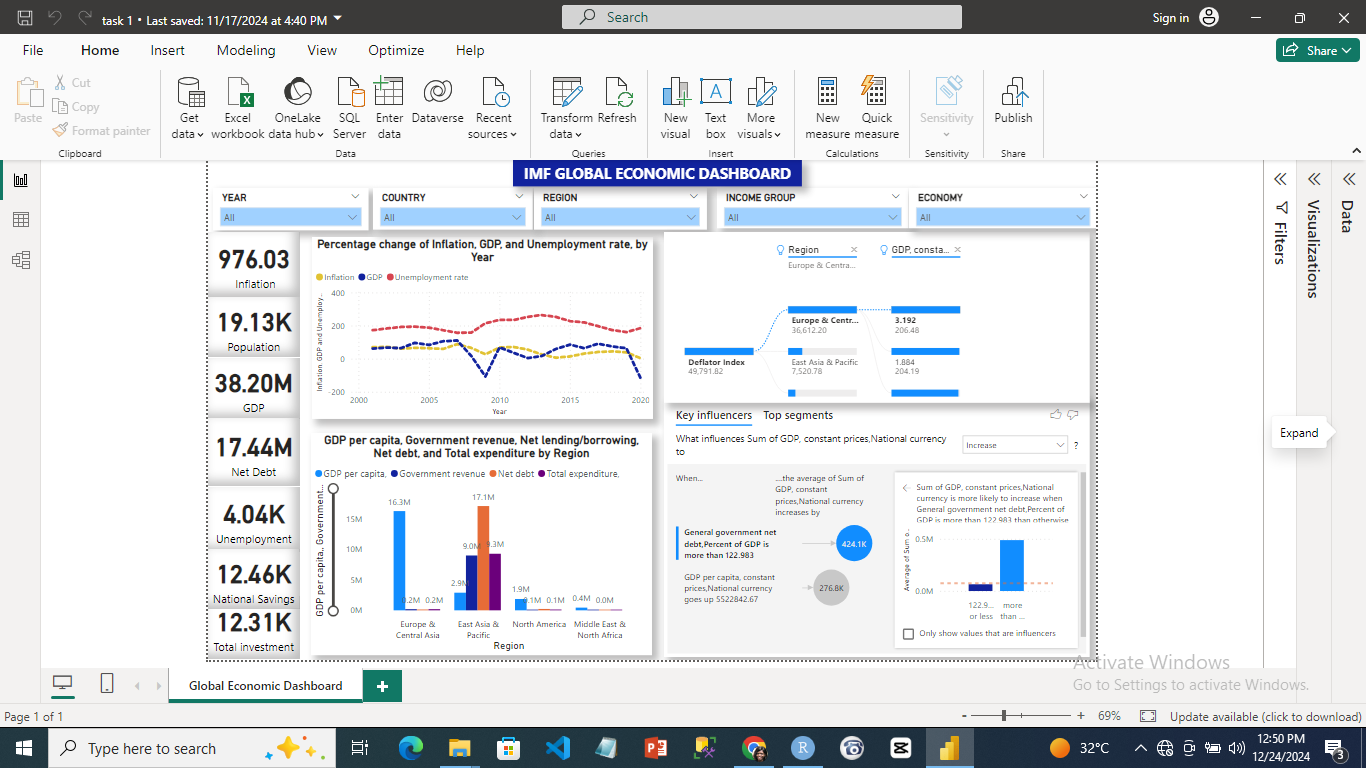

What the dashboard file says about the page in this screenshot:
{"tool":"powerbi","page":{"name":"Global Economic Dashboard","canvas":[1280,720],"ordinal":0},"visuals":[{"type":"slicer","fields":{"Values":["data.Year"]},"box":[7.6,40.9,223.9,60.5],"z":0},{"type":"lineChart","title":"Percentage change of Inflation, GDP, and Unemployment rate, by Year","fields":{"Y":["data.Inflation, end of period consumer prices,Percent change","data.GDP, constant prices,Percent change","data.Unemployment rate,Percent of total labor force"],"Category":["data.Year"]},"box":[149.8,110.9,491,262.1],"z":1000},{"type":"clusteredColumnChart","title":"GDP per capita, Government revenue, Net lending/borrowing, Net debt, and Total expenditure by Region","fields":{"Y":["data.GDP per capita, current prices,U.S. dollars","data.General government revenue,National currency","data.General government net debt,National currency","data.General government total expenditure,National currency"],"Category":["Country Grouppings.Region"]},"box":[148.3,393.1,491,319.7],"z":2000},{"type":"keyDriversVisual","fields":{"Target":["data.GDP, constant prices,National currency"],"ExplainBy":["data.Unemployment rate,Percent of total labor force","data.Volume of imports of goods and services,Percent change","data.Volume of exports of goods and services,Percent change","data.GDP per capita, constant prices,National currency","data.General government net debt,Percent of GDP","data.Inflation, end of period consumer prices,Index"]},"box":[656.6,342.7,613.4,373],"z":3000},{"type":"slicer","fields":{"Values":["data.Country"]},"box":[237.4,40.6,229.9,60.1],"z":4000},{"type":"slicer","fields":{"Values":["Country Grouppings.Region"]},"box":[468.7,40.6,249.4,60.1],"z":5000},{"type":"card","fields":{"Values":["data.Inflation, end of period consumer prices,Percent change"]},"box":[0,103.7,132.2,93.1],"z":6000},{"type":"card","fields":{"Values":["data.Population,Persons"]},"box":[0,196.8,132.2,87.1],"z":7000},{"type":"card","fields":{"Values":["data.GDP, current prices,National currency"]},"box":[0,284.4,131.6,87.8],"z":8000},{"type":"card","fields":{"Values":["data.General government net debt,National currency"]},"box":[0,372.2,131.6,98.3],"z":9000},{"type":"card","fields":{"Values":["data.Unemployment rate,Percent of total labor force"]},"box":[0,470.2,132.2,93.1],"z":10000},{"type":"card","fields":{"Values":["data.Total investment,Percent of GDP"]},"box":[0,627.9,131.6,90.8],"z":11000},{"type":"card","fields":{"Values":["data.Gross national savings,Percent of GDP"]},"box":[0,559.8,131.6,86.2],"z":12000},{"type":"slicer","fields":{"Values":["Country Grouppings.Income group"]},"box":[733,40.3,276.5,57.6],"z":13000},{"type":"decompositionTreeVisual","fields":{"ExplainBy":["Country Grouppings.Region","data.GDP, constant prices,Percent change"],"Analyze":["data.GDP, deflator,Index"]},"box":[656.6,103.7,613.4,246.2],"z":14000},{"type":"slicer","fields":{"Values":["Country Grouppings.Economy"]},"box":[1009.4,40.3,270.7,57.6],"z":15000},{"type":"textbox","box":[438.7,0,416.2,37.6],"z":16000}]}

Visuals, with their boxes on the page's 1280x720 design canvas (x1, y1, x2, y2). These are canvas units, not pixel positions in the 1366x768 screenshot, which may show the page scaled, cropped or inside an application window:
slicer - data.Year: rect(8, 41, 232, 101)
"Percentage change of Inflation, GDP, and Unemployment rate, by Year" lineChart: rect(150, 111, 641, 373)
"GDP per capita, Government revenue, Net lending/borrowing, Net debt, and Total expenditure by Region" clusteredColumnChart: rect(148, 393, 639, 713)
keyDriversVisual - data.GDP, constant prices,National currency x data.Unemployment rate,Percent of total labor force: rect(657, 343, 1270, 716)
slicer - data.Country: rect(237, 41, 467, 101)
slicer - Country Grouppings.Region: rect(469, 41, 718, 101)
card - data.Inflation, end of period consumer prices,Percent change: rect(0, 104, 132, 197)
card - data.Population,Persons: rect(0, 197, 132, 284)
card - data.GDP, current prices,National currency: rect(0, 284, 132, 372)
card - data.General government net debt,National currency: rect(0, 372, 132, 470)
card - data.Unemployment rate,Percent of total labor force: rect(0, 470, 132, 563)
card - data.Total investment,Percent of GDP: rect(0, 628, 132, 719)
card - data.Gross national savings,Percent of GDP: rect(0, 560, 132, 646)
slicer - Country Grouppings.Income group: rect(733, 40, 1010, 98)
decompositionTreeVisual - Country Grouppings.Region x data.GDP, constant prices,Percent change: rect(657, 104, 1270, 350)
slicer - Country Grouppings.Economy: rect(1009, 40, 1280, 98)
textbox: rect(439, 0, 855, 38)
